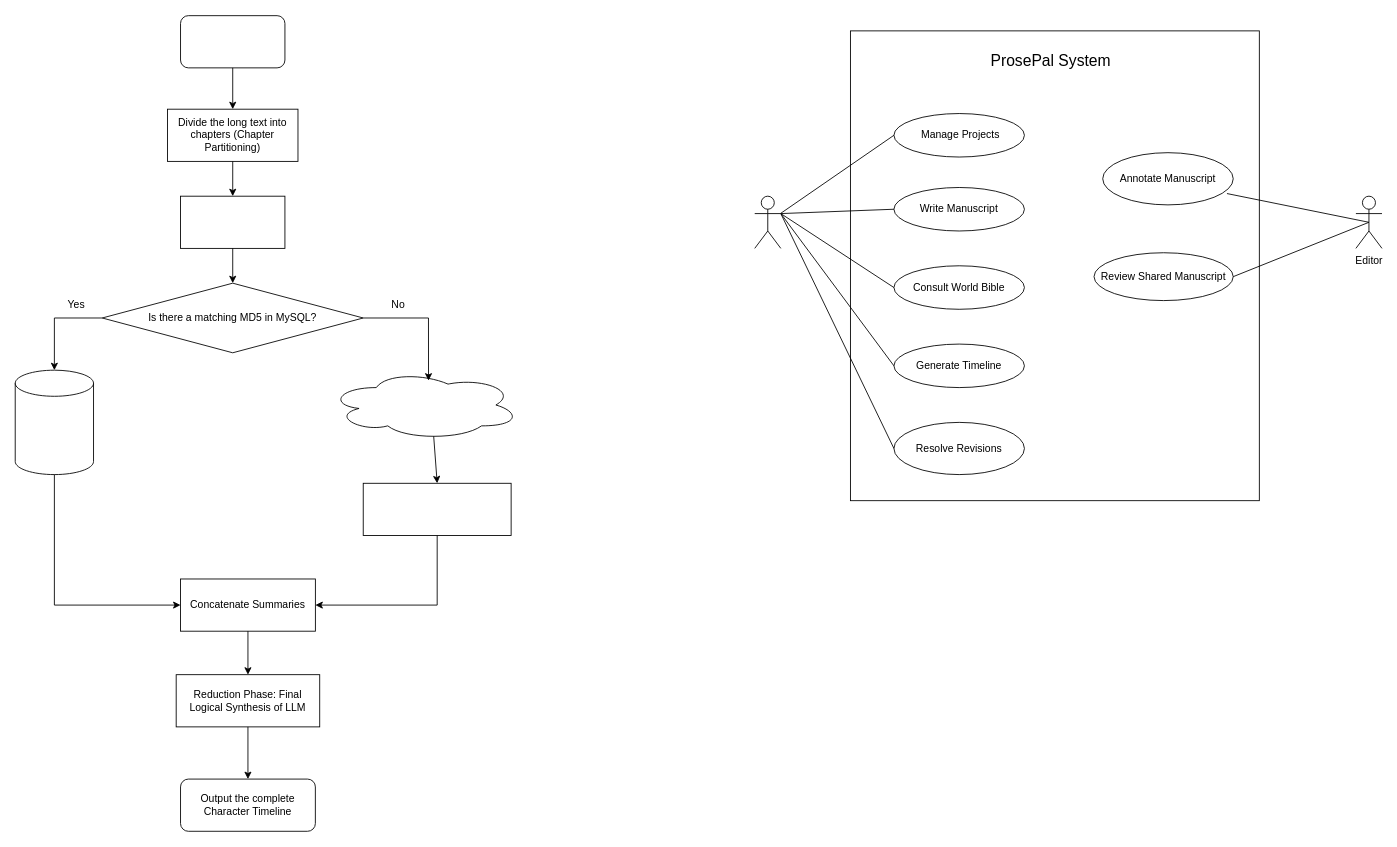
This 1397x847 diagram has some shape labels left out. The shapes that lost their labels are listed below. From the top down, each one's centre as x and y in pixels, then its label:
point (232, 41): User requests to generate Timeline
point (232, 221): Generate the MD5 Hash fingerprint of the chapter content
point (767, 221): Author
point (54, 422): Read the ai_summary cache
point (424, 404): Invoke LLM to generate chapter summaries
point (436, 508): Store the summary in the "ai_summary" field of the database.
